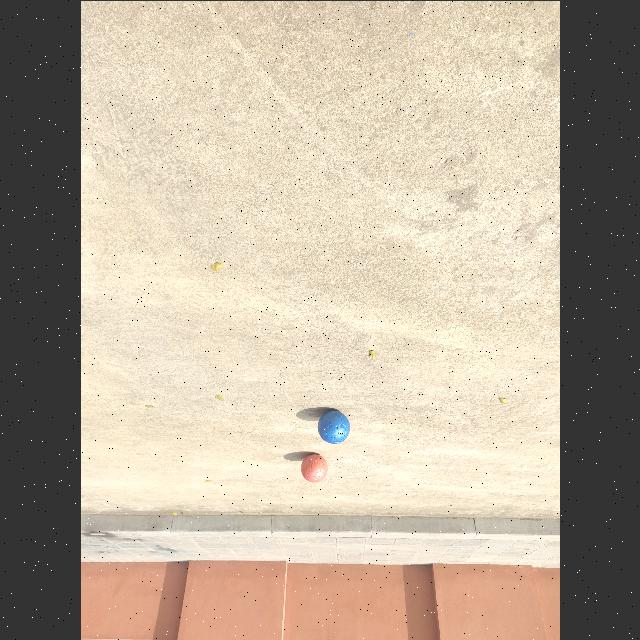B: (317, 410, 349, 443)
R: (301, 453, 327, 482)
